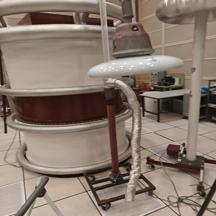insulator: (66, 16, 187, 84)
